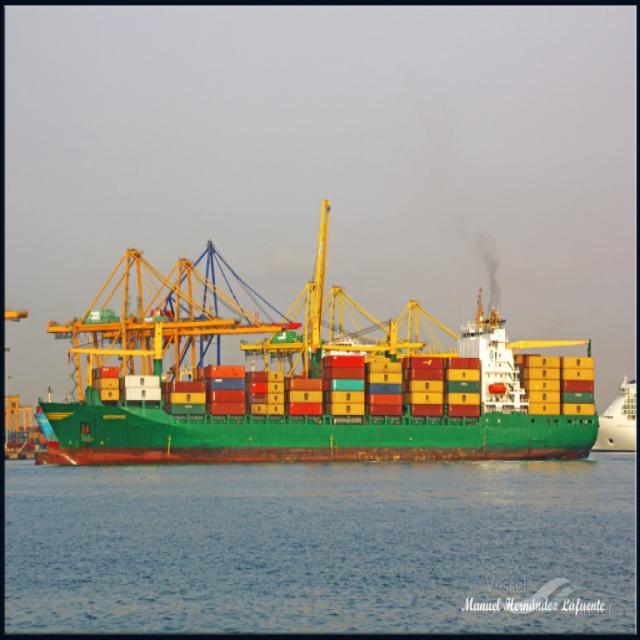Container Ship: (36, 306, 599, 465)
